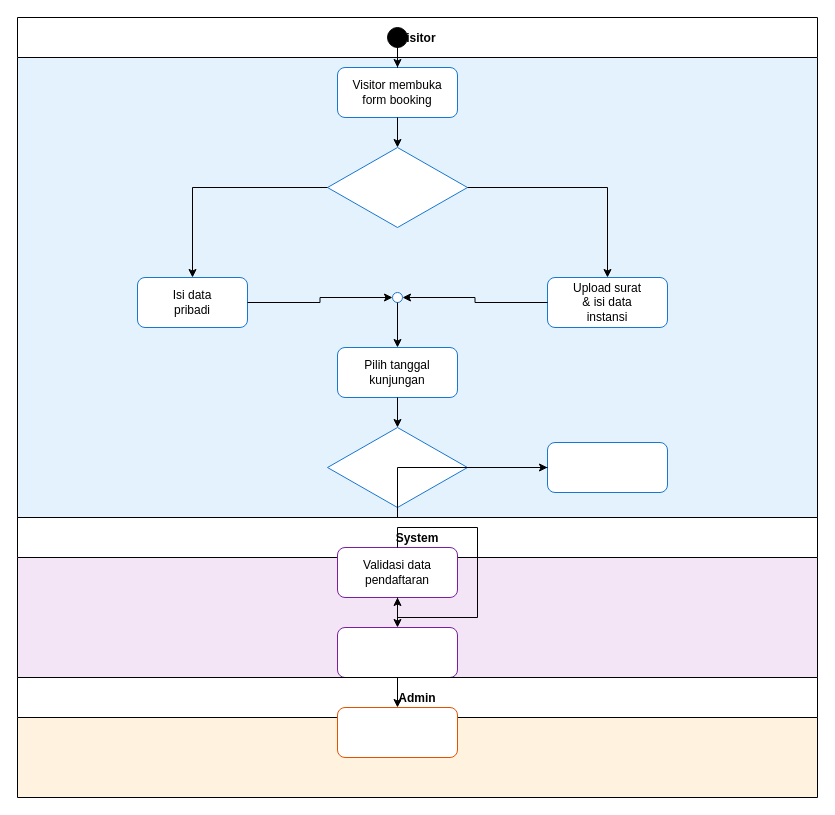
This 835x815 diagram has some shape labels left out. The shapes that lost their labels are listed below. From the top down, each one's centre as x and y in pixels, then its label:
At point 397,187: "Personal vs Instansi?".
At point 397,467: "Tanggal disabled?".
At point 607,467: "Pilih tanggal alternatif".
At point 397,652: "Simpan pendaftaran & generate token pembayaran".
At point 397,732: "Terima notifikasi pendaftaran baru".
